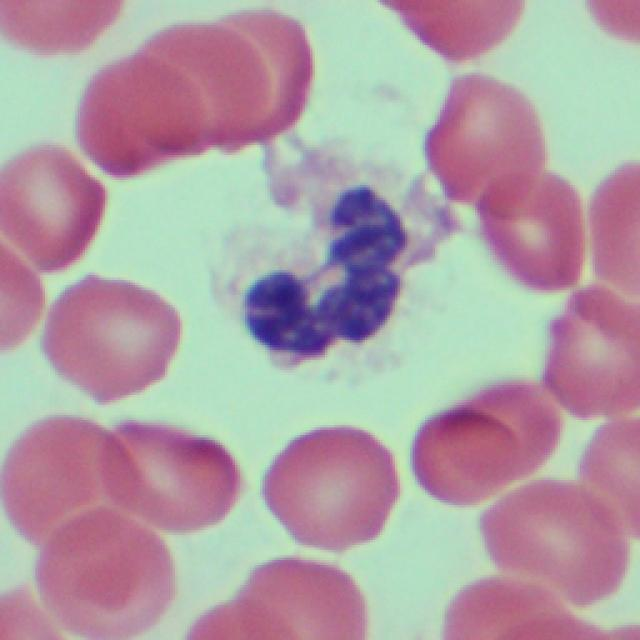RBC: (174, 0, 311, 152), (259, 413, 399, 554), (21, 513, 173, 639), (36, 273, 176, 409), (401, 374, 536, 513), (110, 414, 245, 546), (421, 72, 544, 211), (0, 408, 121, 544), (537, 288, 637, 426), (0, 144, 97, 278), (238, 554, 367, 640), (378, 0, 526, 63), (585, 154, 640, 296), (578, 416, 640, 540), (2, 0, 128, 58)
WBC: (246, 118, 445, 354)
